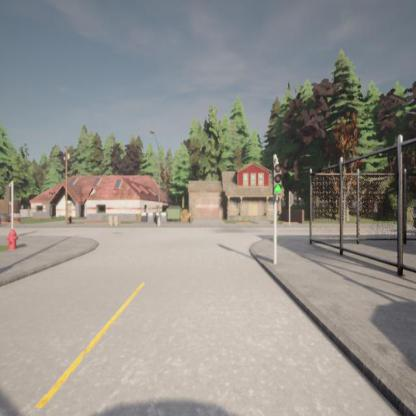traffic_light_green: (272, 161, 283, 198)
